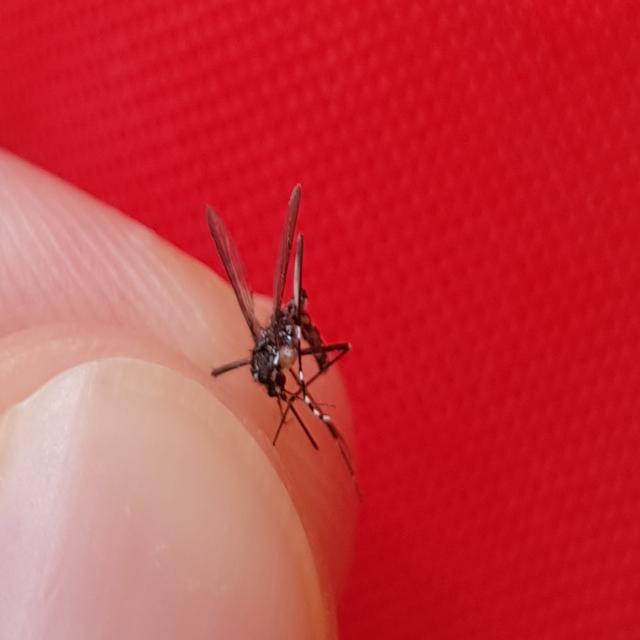albopictus: (191, 175, 365, 496)
